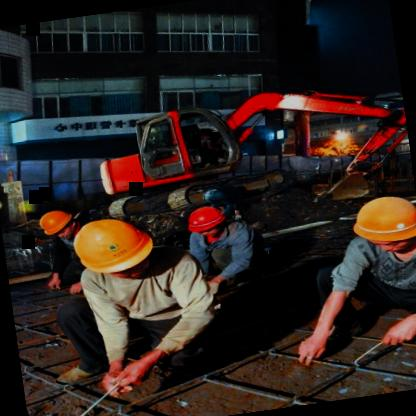helmet: (68, 212, 160, 286), (343, 190, 416, 260), (34, 206, 81, 245), (184, 202, 230, 238)
